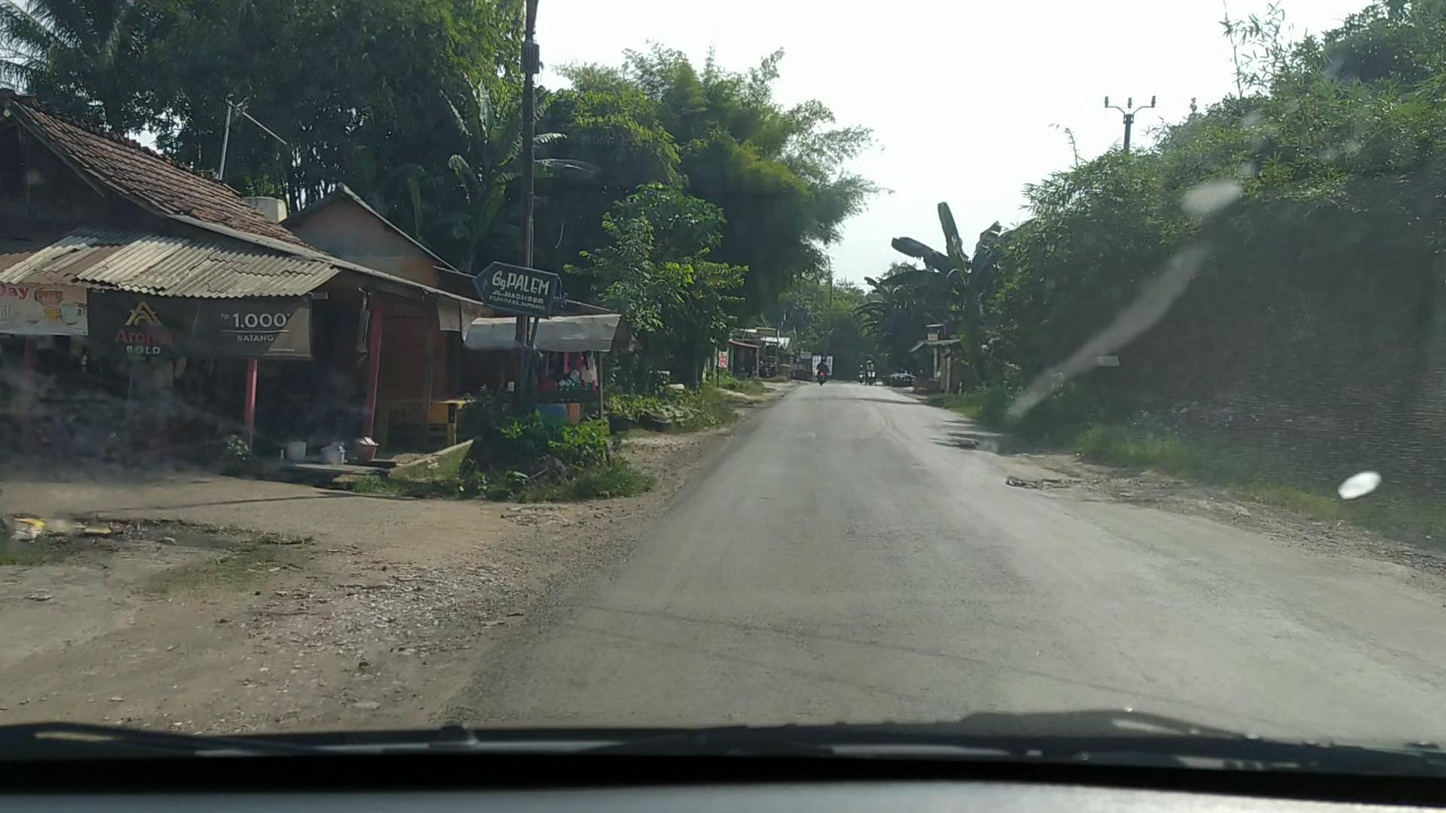pothole: (103, 518, 269, 552), (1004, 474, 1084, 491)
